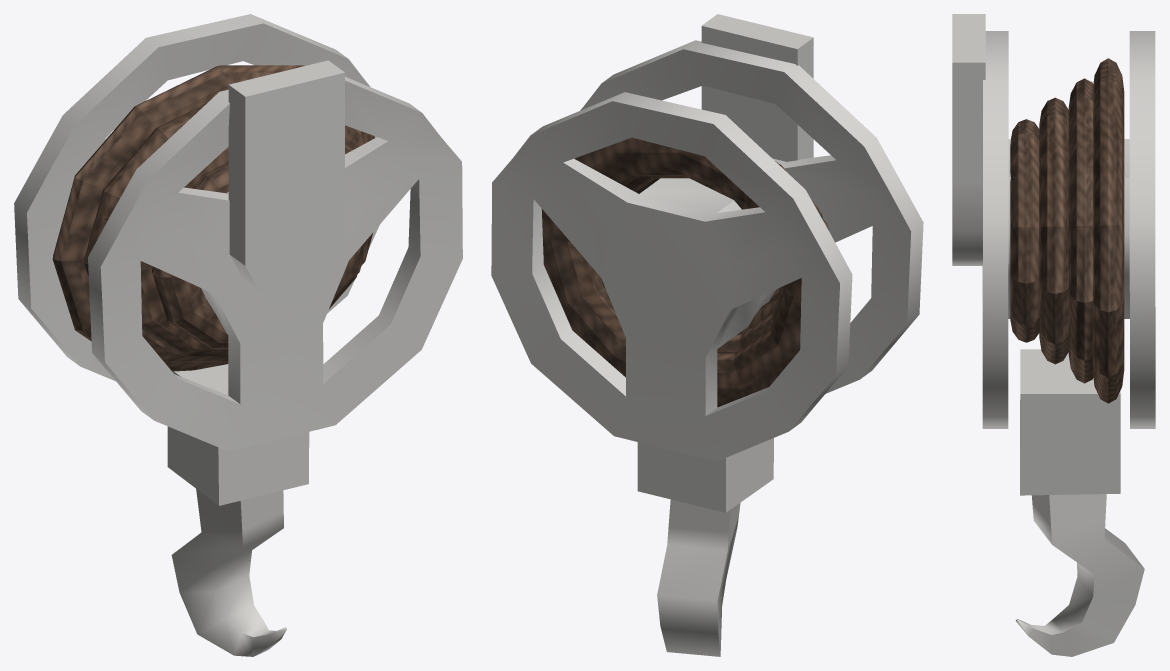
File: PoleaDerecha.fbx
The picture shows the model from 3 angles, left to right: view 1: azimuth 30°, elevation 25°; view 2: azimuth 150°, elevation 25°; view 3: azimuth 270°, elevation 25°; orthographic projection. The views are drawn at different scales.
Visible parts, largest first — view 1: Cube.017; view 2: Cube.017; view 3: Cube.017.
Boxes of the visible parts, x1,y1,x2,y2 form: Cube.017: (14, 14, 462, 656); Cube.017: (491, 14, 923, 656); Cube.017: (952, 14, 1155, 656).
Size of the model in its own units: 224 by 360 by 109.
Materials: 2 (2 with a texture image).
